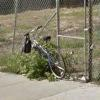Bicycle: (16, 25, 77, 83)
